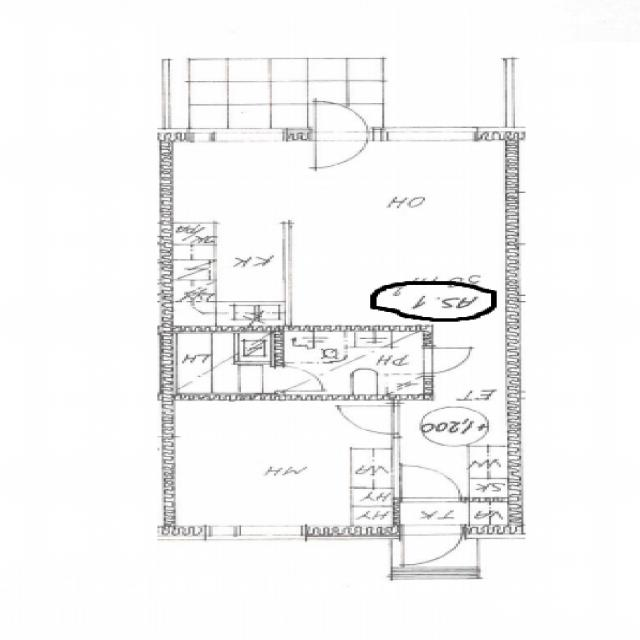door: (405, 526, 463, 570), (316, 127, 368, 174), (316, 95, 368, 142), (404, 463, 462, 503), (341, 405, 400, 435), (423, 347, 478, 374), (272, 365, 324, 390)
